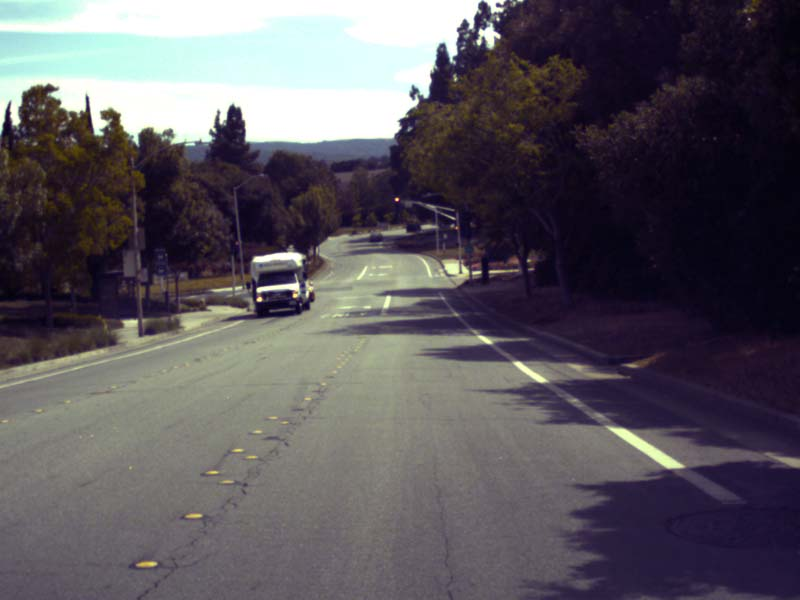Red: (394, 197, 399, 208)
